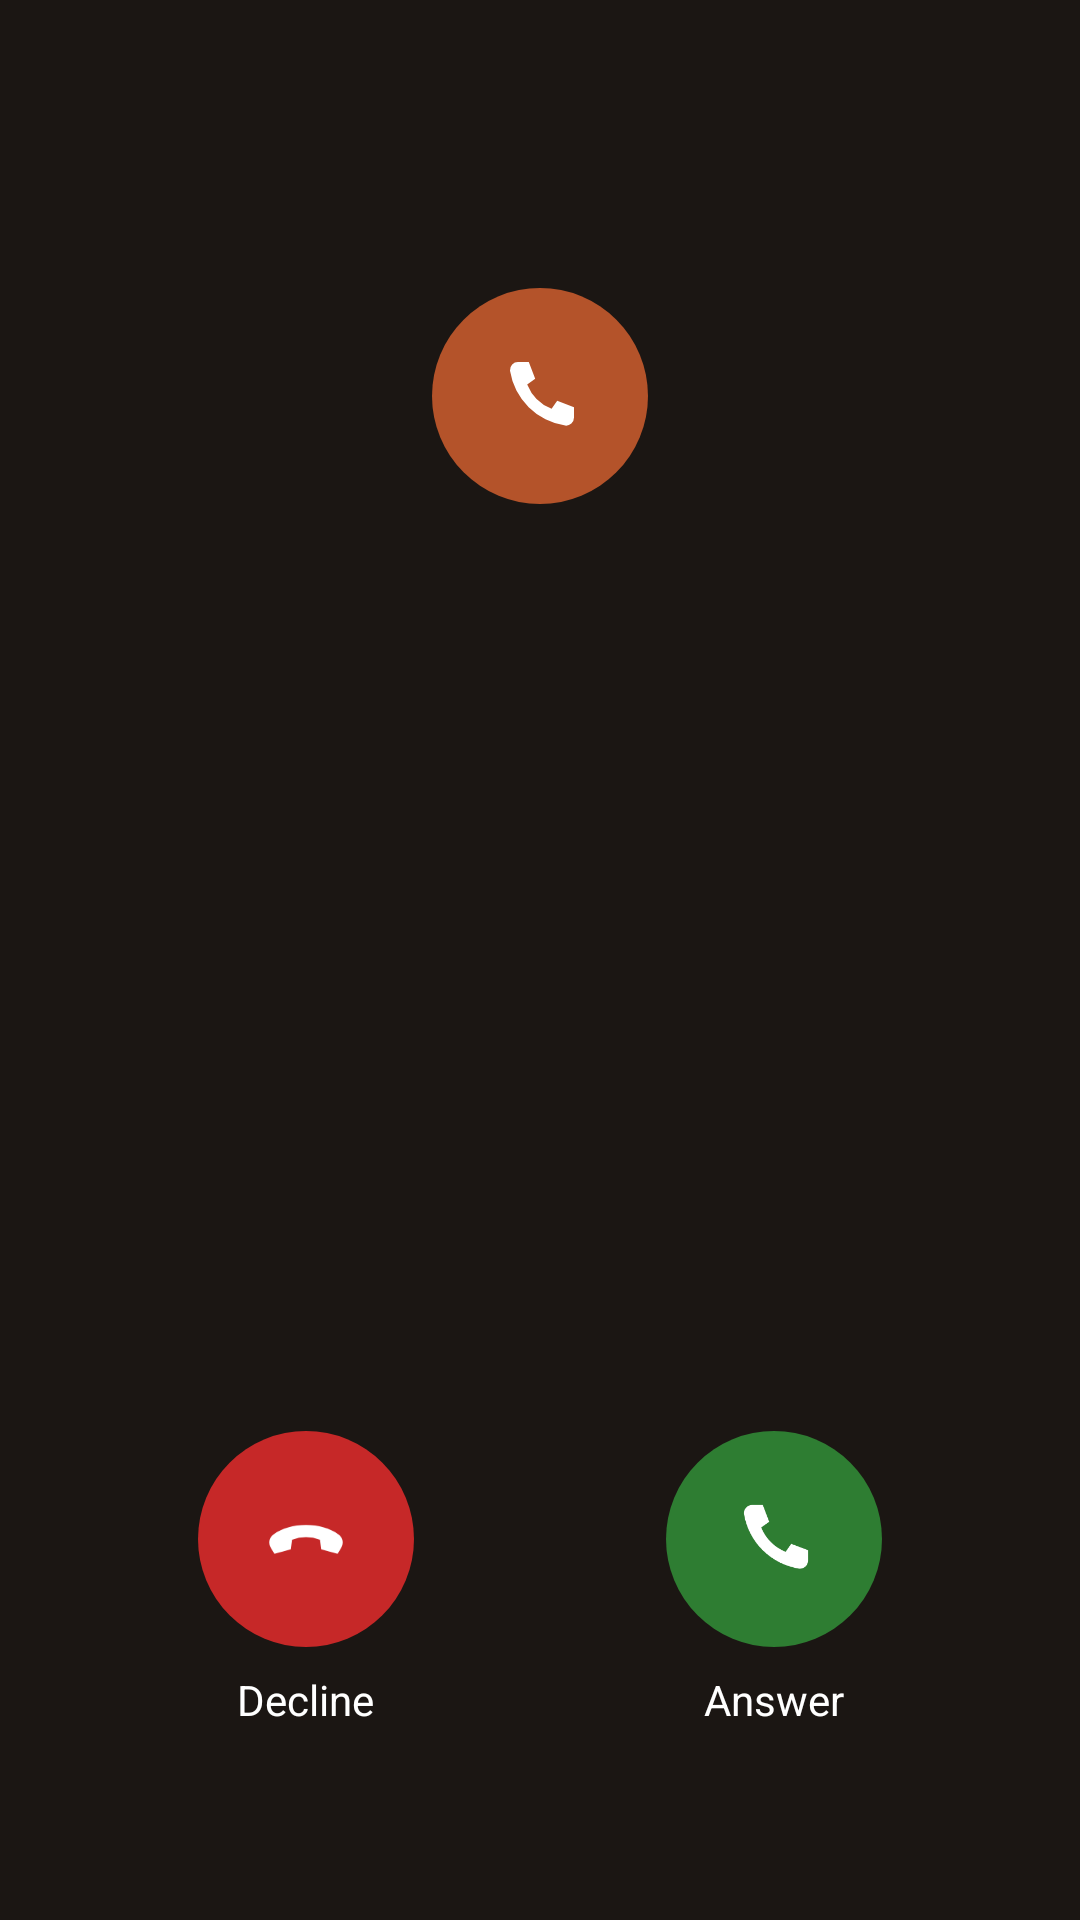

Icon click points for this 1080x1920 phone screenshot, format [x,y]:
call phone: [540,396]
